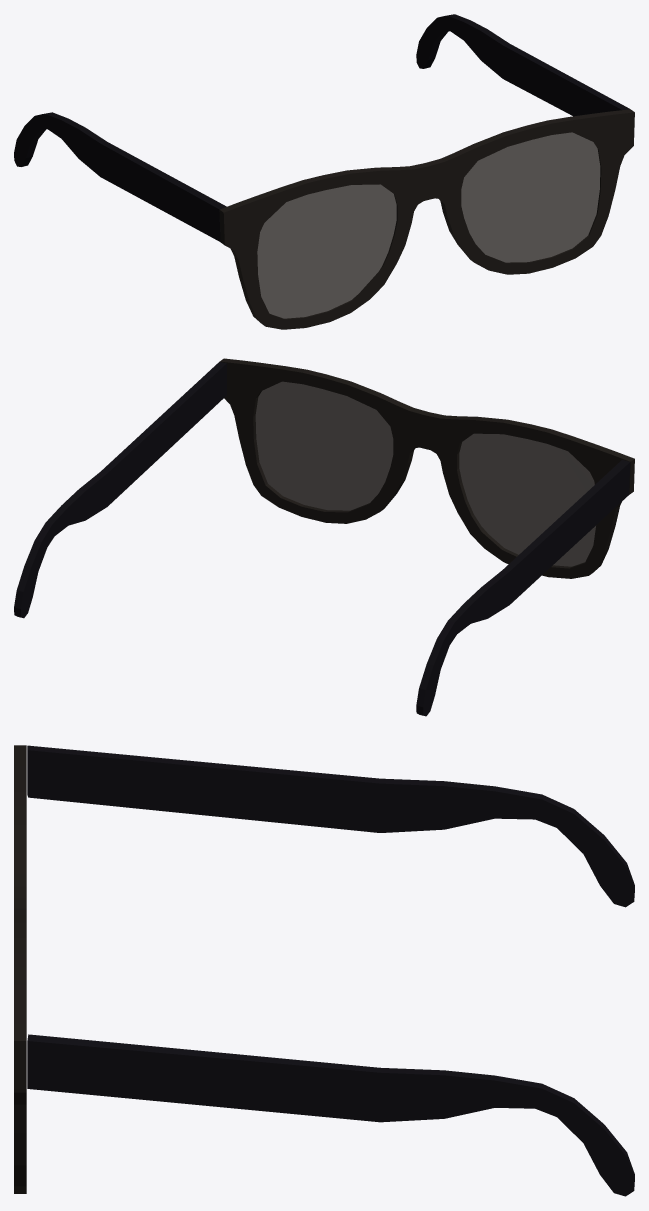
Rendered from Clothing_Glasses_1.fbx.
3 renders of one model, top to bottom at view 1: azimuth 30°, elevation 25°; view 2: azimuth 150°, elevation 25°; view 3: azimuth 270°, elevation 25°, orthographic. The views are drawn at different scales.
Visible parts, largest first — view 1: Glasses, Glass_Lens_Right, Glass_Lens_Left, GlassesArm_Left, GlassesArm_Right; view 2: Glasses, Glass_Lens_Right, Glass_Lens_Left, GlassesArm_Left, GlassesArm_Right; view 3: GlassesArm_Right, GlassesArm_Left, Glasses.
Part boxes in pixels (x1=…): Glasses: x1=219, y1=109, x2=634, y2=329; Glass_Lens_Right: x1=461, y1=132, x2=600, y2=262; Glass_Lens_Left: x1=257, y1=184, x2=396, y2=318; GlassesArm_Left: x1=14, y1=112, x2=226, y2=241; GlassesArm_Right: x1=416, y1=14, x2=629, y2=116; Glasses: x1=219, y1=358, x2=634, y2=578; Glass_Lens_Right: x1=255, y1=381, x2=393, y2=510; Glass_Lens_Left: x1=459, y1=433, x2=595, y2=566; GlassesArm_Left: x1=416, y1=459, x2=630, y2=716; GlassesArm_Right: x1=14, y1=362, x2=226, y2=618; GlassesArm_Right: x1=27, y1=1034, x2=634, y2=1196; GlassesArm_Left: x1=27, y1=745, x2=634, y2=907; Glasses: x1=14, y1=745, x2=26, y2=1193.
Bounding box in the file's own units: 31.54 × 10.59 × 28.01.
